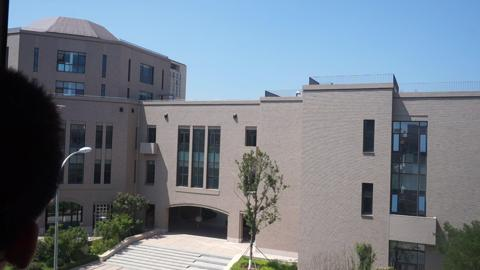UAV: (56, 105, 66, 109)
